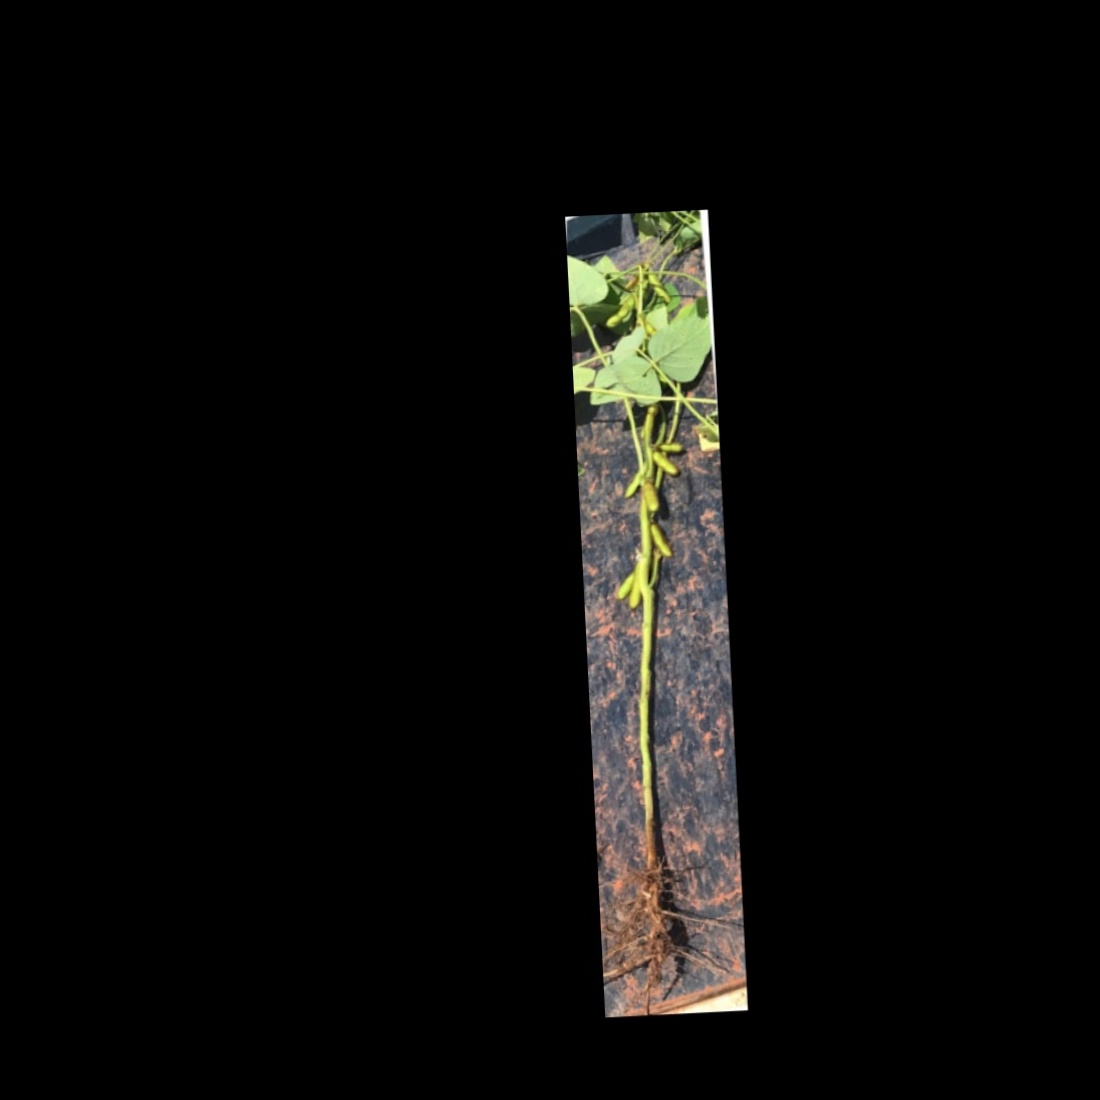pod: (616, 457, 653, 502), (602, 292, 643, 329), (649, 519, 683, 562), (623, 558, 645, 614), (648, 450, 681, 478), (640, 479, 661, 513), (652, 439, 688, 455)
soy: (571, 225, 741, 961)
